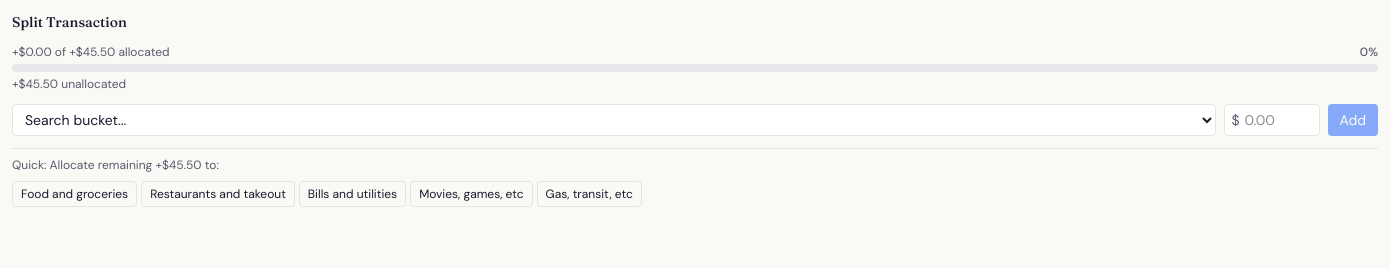
it: SplitTransaction › adding splits › adds a split when Add is clicked
Select "Food and groceries" in the dropdown: (614, 120) [12,104,1216,136]
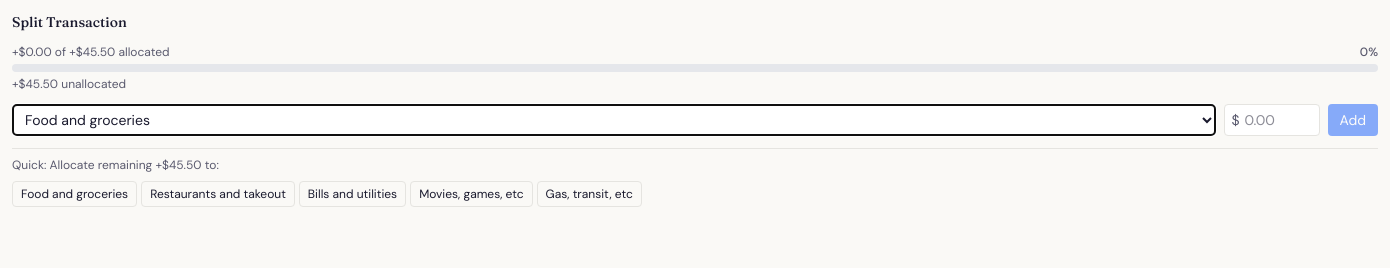
In the number field with placeholder "0.00": (1272, 120) [1224,104,1320,136], type "20.00"
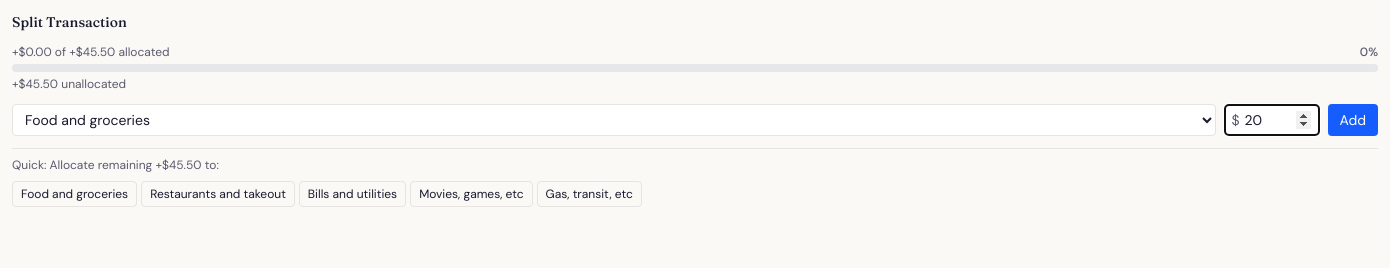
Click the button "Add": (1353, 120) [1328,104,1378,136]
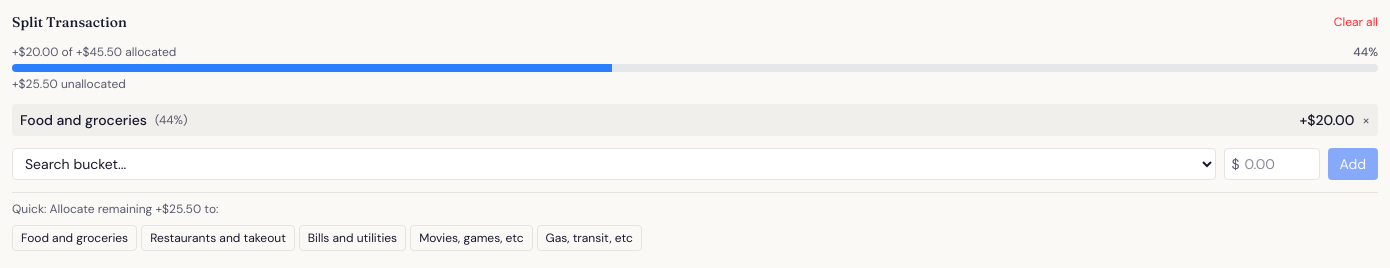
Result: the text "+$20.00" is shown at [1299,110,1354,130]
Result: the text "44%" is shown at [1353,44,1378,60]
